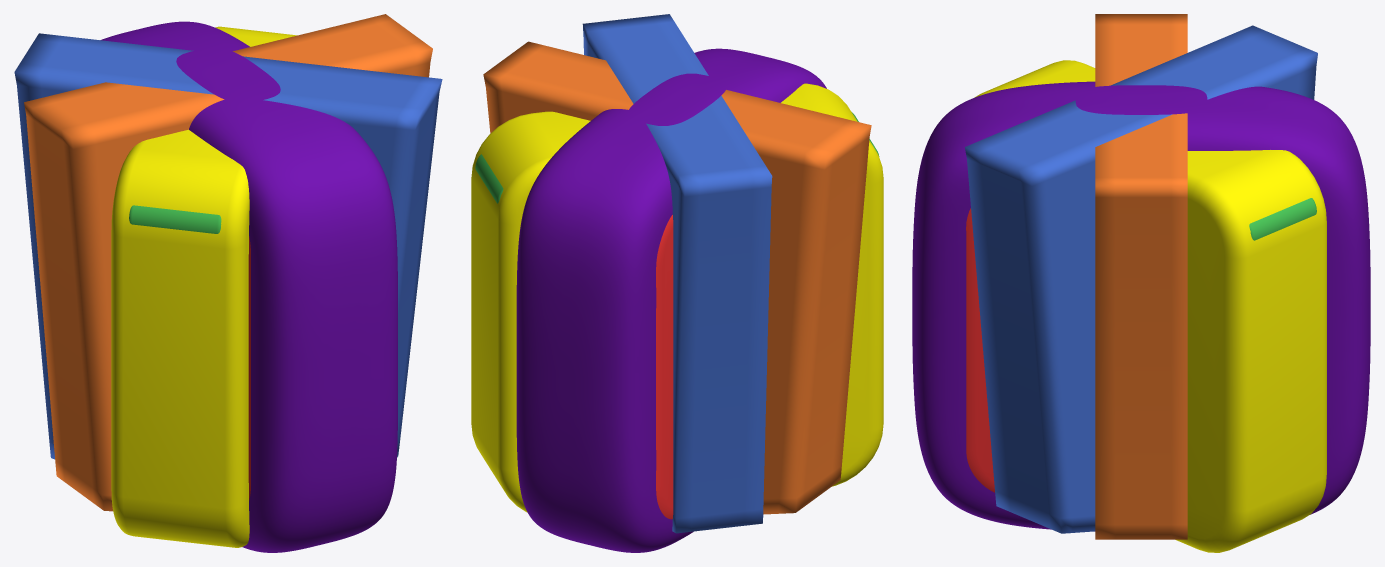
3 views of the same model, side by side, from view 1: azimuth 30°, elevation 25°; view 2: azimuth 150°, elevation 25°; view 3: azimuth 270°, elevation 25° (orthographic). The views are drawn at different scales.
Visible parts, largest first — view 1: back, Cube, Cube019, Cube016, Curve002, Cube_1; view 2: back, Cube016, Cube019, Cube, Cube_1, Curve002; view 3: Cube016, Cube, back, Cube019, Cube_1, Curve002.
Part boxes in pixels (<box>): back: <box>100,21,397,552</box>; Cube: <box>111,26,297,547</box>; Cube019: <box>24,14,432,511</box>; Cube016: <box>14,33,442,459</box>; Curve002: <box>129,205,221,233</box>; Cube_1: <box>248,236,250,500</box>; back: <box>516,48,826,552</box>; Cube016: <box>582,14,772,533</box>; Cube019: <box>483,41,871,514</box>; Cube: <box>471,83,883,512</box>; Cube_1: <box>656,215,673,519</box>; Curve002: <box>475,112,879,203</box>; Cube016: <box>965,25,1317,533</box>; Cube: <box>974,60,1326,552</box>; back: <box>912,81,1370,529</box>; Cube019: <box>1095,14,1187,539</box>; Cube_1: <box>966,208,994,492</box>; Curve002: <box>1249,198,1316,240</box>.
Size of the model in its own units: 8285 by 9323 by 9323.
